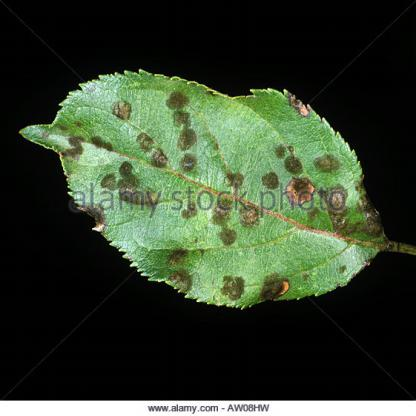Apple Scab Leaf: (44, 52, 415, 322)
